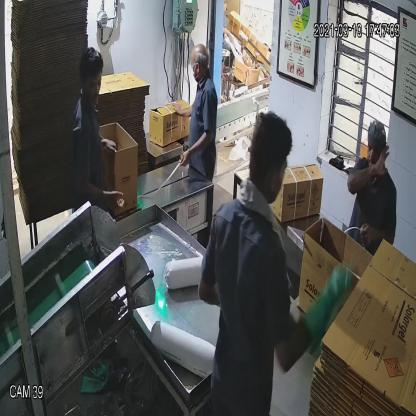glove: (304, 253, 354, 354)
no_glove: (72, 163, 129, 221), (342, 142, 394, 202), (178, 122, 213, 174), (356, 218, 395, 258)
